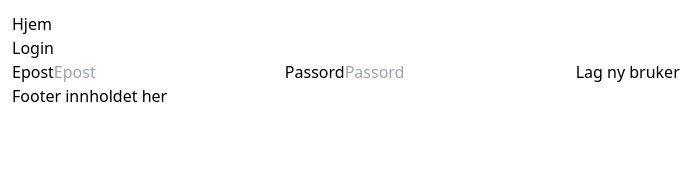
Test: Login Page › When submitting the form › should show error when password validation fails in client
The image size is (698, 172).
In the field labelled "Epost": (169, 72) [54,60,285,84], type "test@test.no"
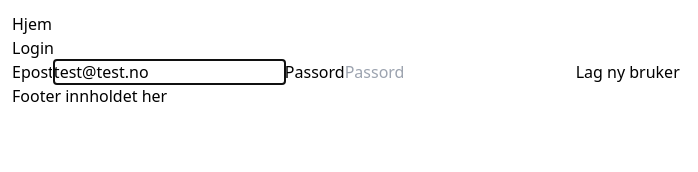
In the password field labelled "Passord": (460, 72) [345,60,576,84], type "123"
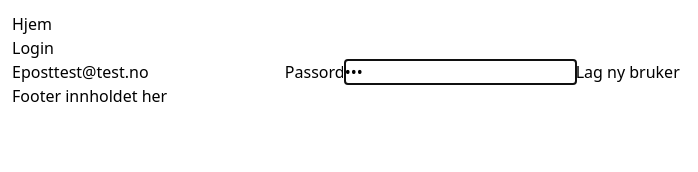
Click the button: (628, 72) [576,60,680,84]
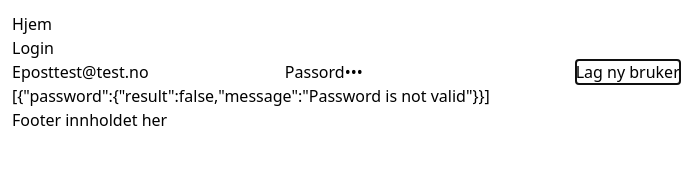
Check: the text "Password is not valid" is shown, box [12,85,490,107]
